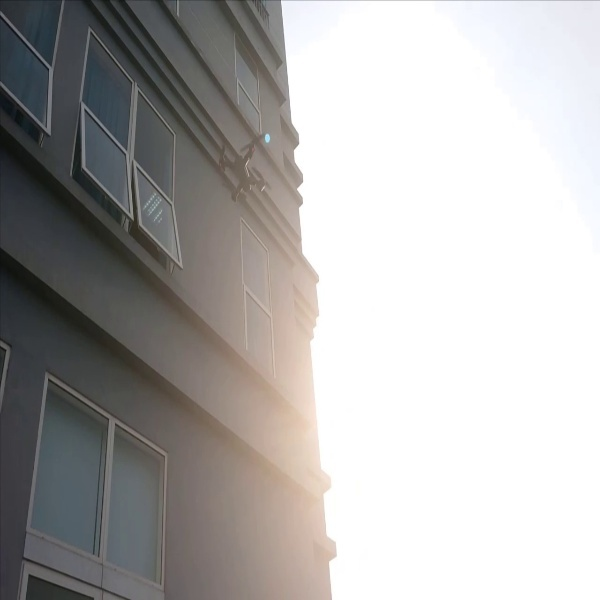drone: (210, 132, 280, 208)
